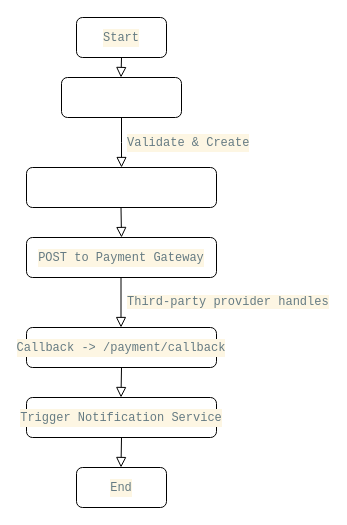
This 347x525 diagram has some shape labels left out. The shapes that lost their labels are listed below. From the top down, each one's centre as x and y in pixels, then its label:
At (121,97): "POST /order/create".
At (121,187): "Trigger Payment Service".
